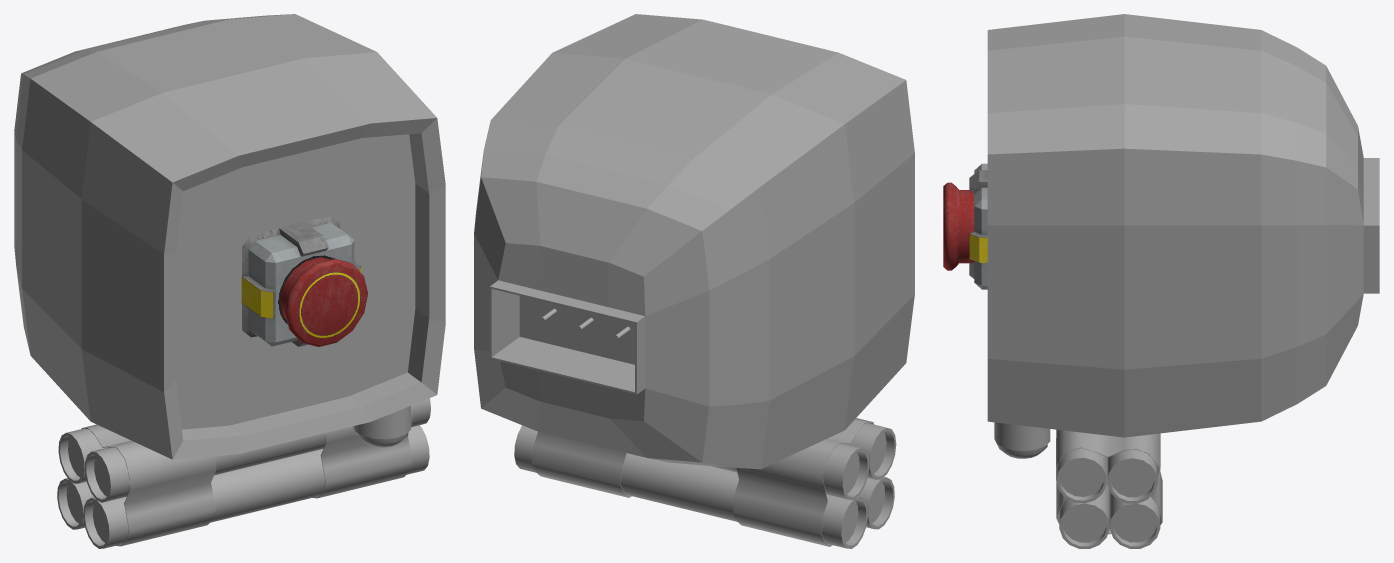
File: WW_SpinnerBot_01.fbx
3 views of the same model, side by side, from view 1: azimuth 30°, elevation 25°; view 2: azimuth 150°, elevation 25°; view 3: azimuth 270°, elevation 25° (orthographic). The views are drawn at different scales.
Parts seen in each view (by area): view 1: polySurface87, TntStick_GEO_04, Tnt_Band_GEO1, button_housing_geo, button_geo, Tnt_Band_GEO, TntStick_GEO_03, TntStick_GEO_02, TntStick_GEO_01, BombRobotLightBase_GEO; view 2: polySurface87, TntStick_GEO_01, Tnt_Band_GEO1, Tnt_Band_GEO, TntStick_GEO_02, TntStick_GEO_03, TntStick_GEO_04; view 3: polySurface87, Tnt_Band_GEO, button_geo, TntStick_GEO_04, TntStick_GEO_02, TntStick_GEO_03, TntStick_GEO_01, button_housing_geo, BombRobotLightBase_GEO.
Part boxes in pixels (x1,y1,x2,y2): polySurface87: [14, 14, 445, 459]; TntStick_GEO_04: [83, 425, 429, 548]; Tnt_Band_GEO1: [81, 424, 216, 546]; button_housing_geo: [241, 216, 361, 346]; button_geo: [280, 257, 367, 346]; Tnt_Band_GEO: [312, 405, 412, 498]; TntStick_GEO_03: [85, 398, 430, 502]; TntStick_GEO_02: [58, 428, 107, 483]; TntStick_GEO_01: [57, 478, 93, 529]; BombRobotLightBase_GEO: [353, 406, 410, 439]; polySurface87: [474, 14, 914, 469]; TntStick_GEO_01: [514, 425, 867, 548]; Tnt_Band_GEO1: [732, 418, 874, 546]; Tnt_Band_GEO: [532, 431, 631, 497]; TntStick_GEO_02: [711, 443, 869, 499]; TntStick_GEO_03: [843, 423, 896, 479]; TntStick_GEO_04: [858, 476, 894, 529]; polySurface87: [987, 14, 1379, 437]; Tnt_Band_GEO: [1056, 429, 1162, 534]; button_geo: [943, 182, 974, 270]; TntStick_GEO_04: [1059, 457, 1109, 548]; TntStick_GEO_02: [1107, 449, 1157, 503]; TntStick_GEO_03: [1056, 448, 1106, 503]; TntStick_GEO_01: [1110, 470, 1160, 548]; button_housing_geo: [969, 163, 987, 289]; BombRobotLightBase_GEO: [994, 422, 1050, 450].
Bounding box in the file's own units: 36.27 × 45.62 × 44.41.
